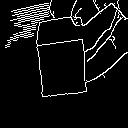cube: (32, 12, 94, 99)
